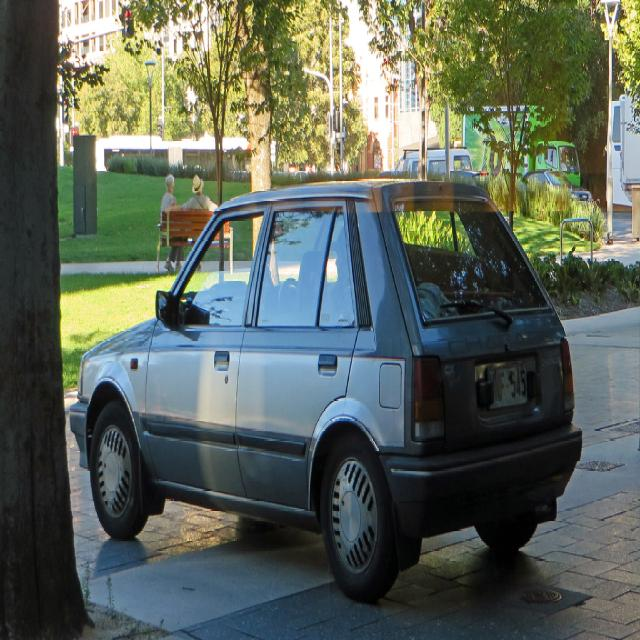car: (72, 174, 579, 599)
